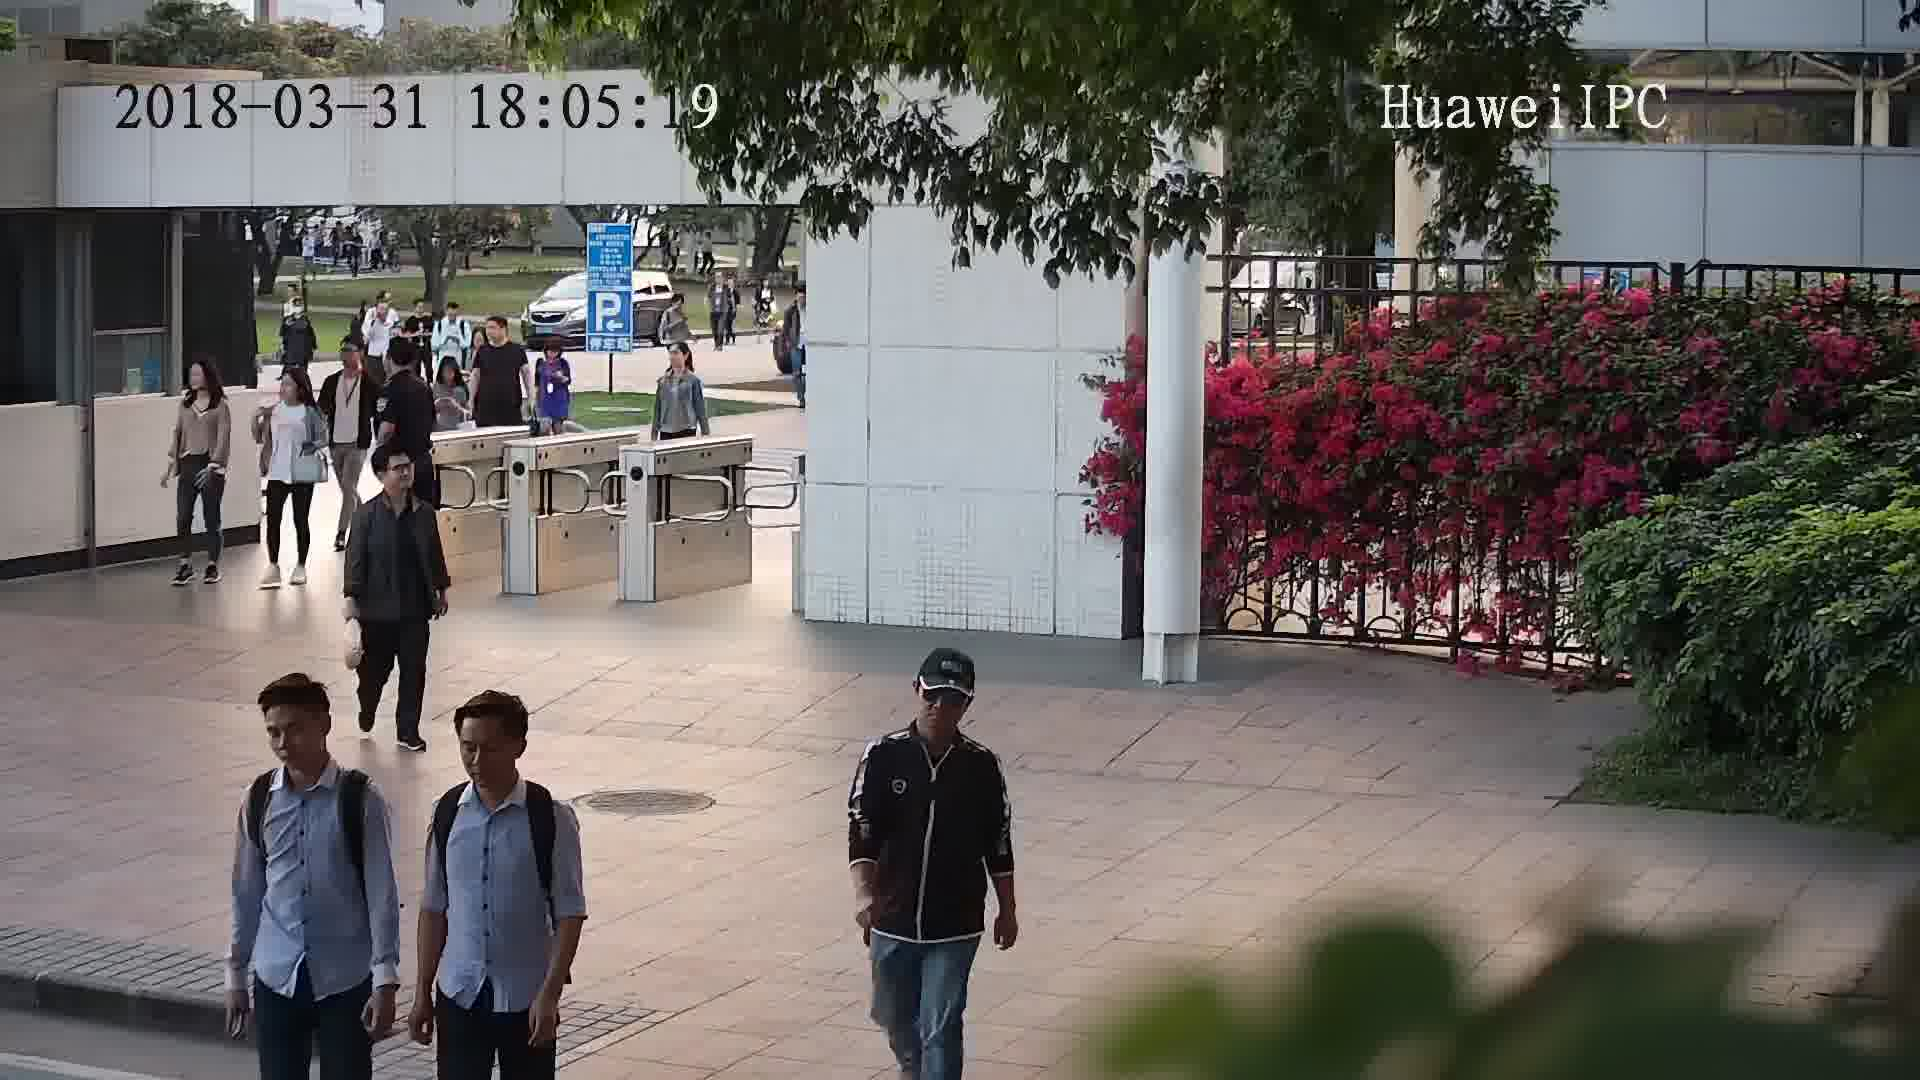face: (450, 712, 523, 785), (259, 700, 327, 768), (914, 682, 968, 737), (376, 451, 417, 494)
person: (236, 671, 392, 816), (863, 643, 1003, 792), (433, 689, 574, 836), (349, 442, 437, 531), (175, 353, 229, 418), (267, 368, 322, 426), (325, 336, 377, 391), (384, 339, 431, 399), (479, 314, 528, 362), (658, 337, 704, 389), (431, 353, 470, 400), (534, 336, 574, 378), (431, 298, 473, 338), (367, 300, 399, 331), (406, 296, 435, 325), (663, 288, 691, 318), (707, 269, 734, 290)
